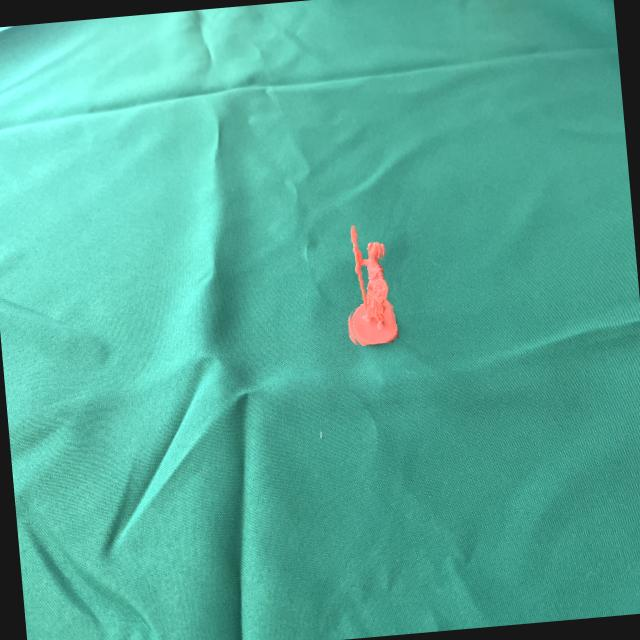amon_follower: (351, 225, 399, 345)
